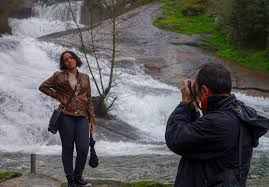person: (166, 56, 253, 138), (46, 46, 98, 100)
